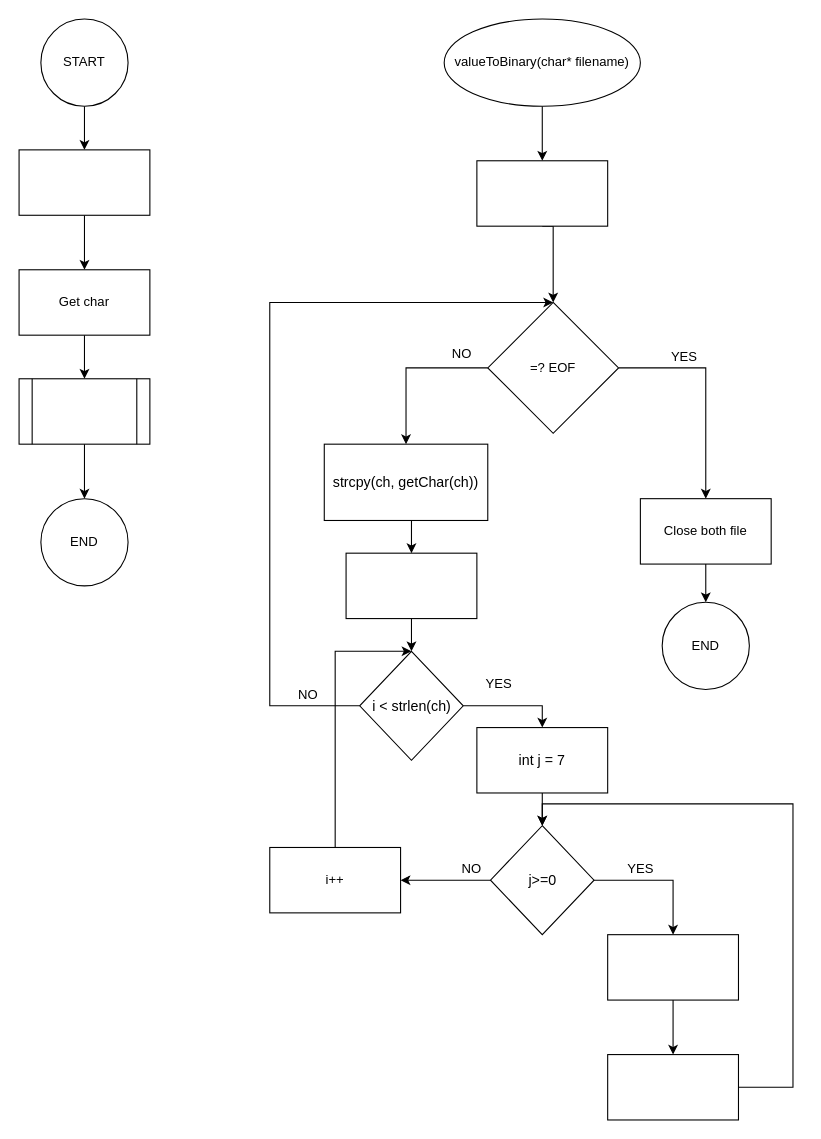
Some shapes in this 821 by 1139 pixel diagram are drawn without their labels. The shapes that lost their labels are listed below. From the top down, each one's box as (x1, y1, x2, y2) in pixels, then its label:
(18, 149, 150, 215): Open file
(476, 160, 608, 226): open orjinal file and tempory file
(18, 378, 150, 444): valueToBinary()
(345, 552, 477, 619): int i = 0
(607, 934, 738, 1000): put necessary characters to file
(607, 1053, 738, 1120): j--
